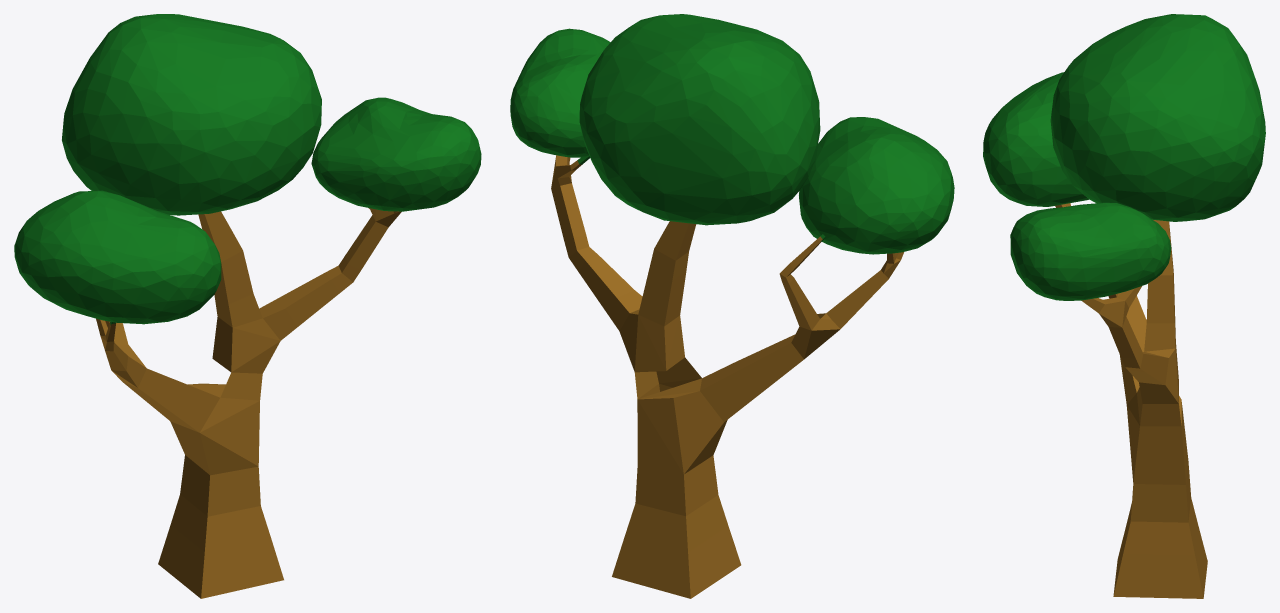
Rendered from OakTreeGroup2_LP.glb.
The picture shows the model from 3 angles, left to right: view 1: azimuth 30°, elevation 25°; view 2: azimuth 150°, elevation 25°; view 3: azimuth 270°, elevation 25°; orthographic projection. The views are drawn at different scales.
Visible parts, largest first — view 1: OakTree.001, OakTree; view 2: OakTree.001, OakTree; view 3: OakTree.001, OakTree.
Boxes of the visible parts, bbox=[...] form: OakTree.001: bbox=[14, 14, 481, 325]; OakTree: bbox=[96, 208, 401, 598]; OakTree.001: bbox=[510, 14, 954, 254]; OakTree: bbox=[551, 155, 903, 598]; OakTree.001: bbox=[983, 14, 1265, 300]; OakTree: bbox=[1055, 203, 1207, 598].
Bounding box in the file's own units: 0.6934 × 0.8494 × 0.4089.
